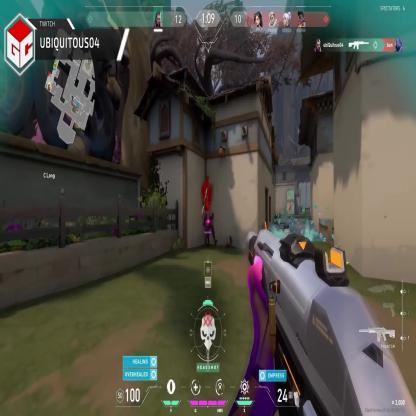enemy: (288, 202, 292, 214)
enemy_head: (289, 202, 291, 204)
